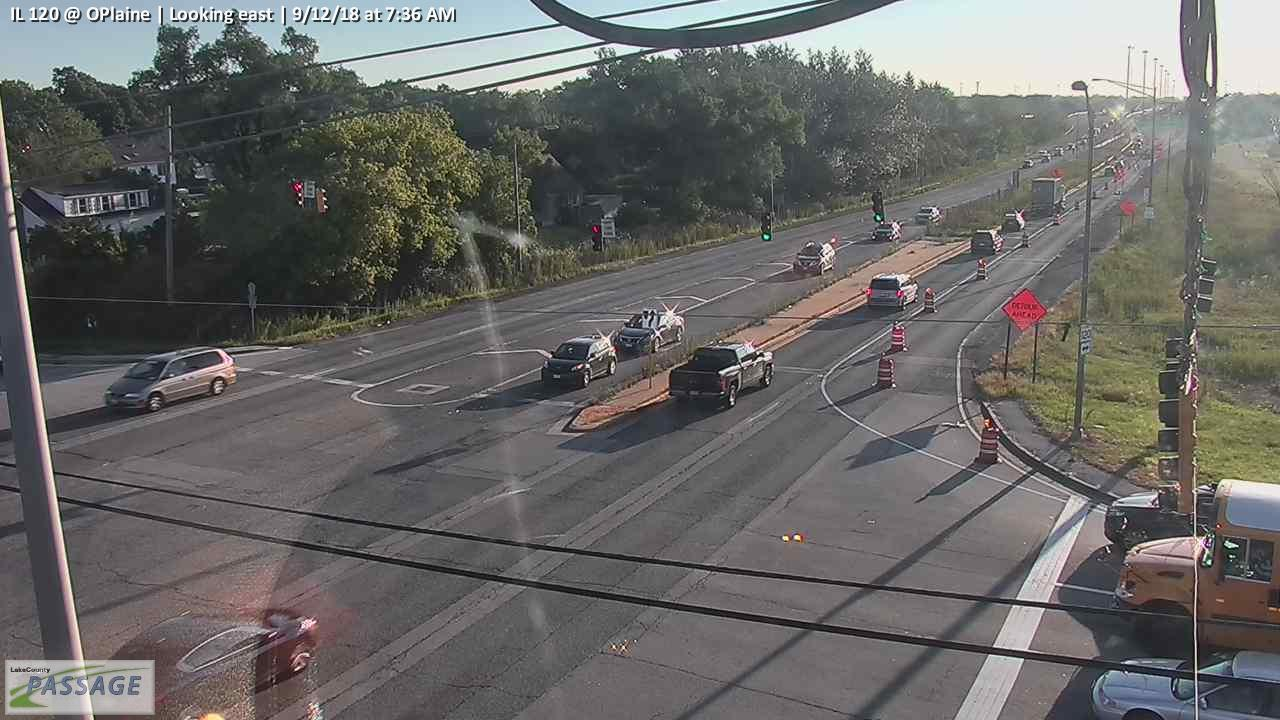SUV: (103, 344, 239, 413), (541, 334, 619, 389), (866, 273, 920, 309), (791, 240, 839, 276), (970, 230, 1004, 255), (871, 221, 902, 240), (915, 206, 941, 223), (1002, 212, 1024, 230)
Sedan: (615, 308, 685, 354)
Truck: (666, 341, 775, 409), (1028, 177, 1069, 218)
